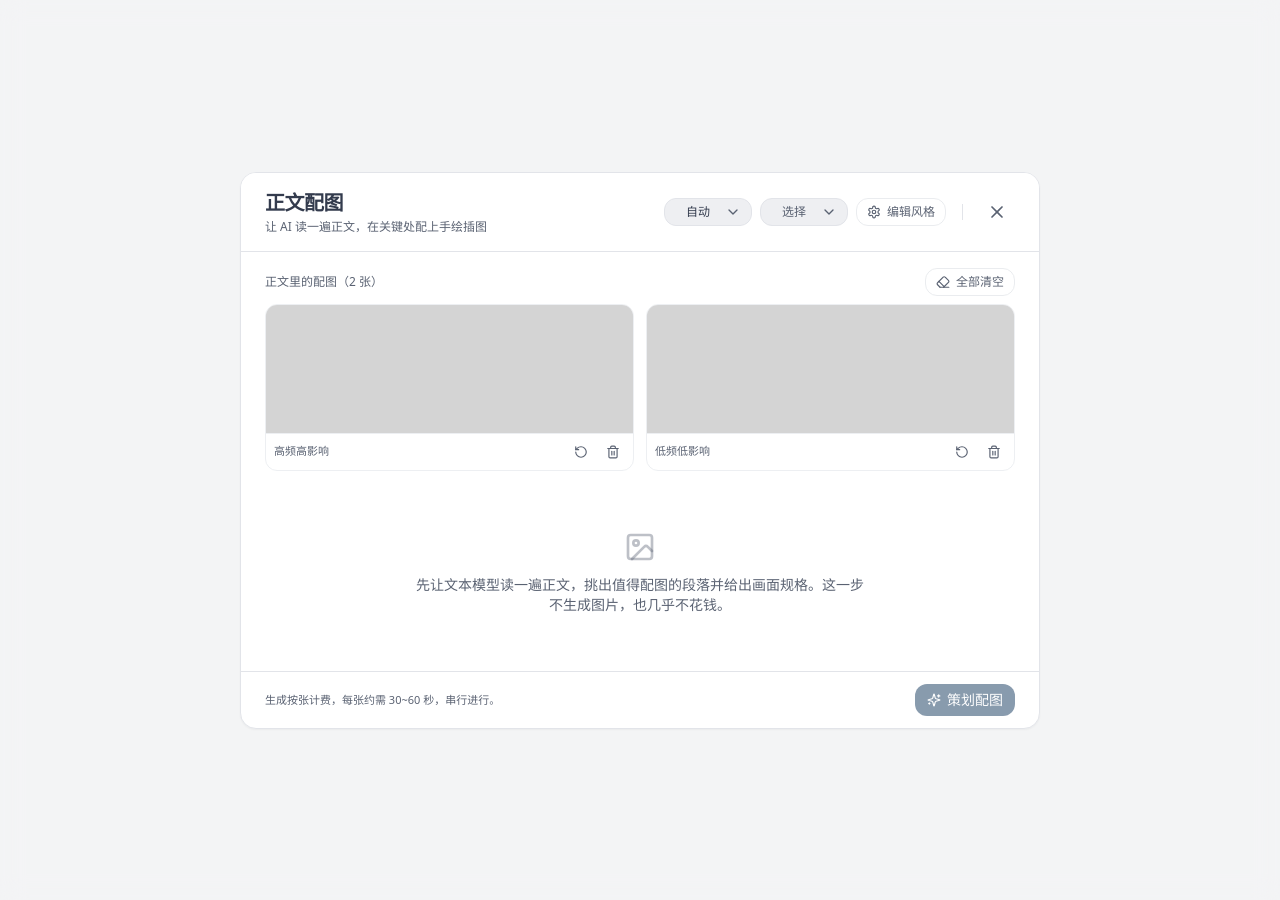
清空全部配图 › 取消就什么也不做
The image size is (1280, 900).
Click the button "全部清空" at [970, 282], box [925,268,1015,296]
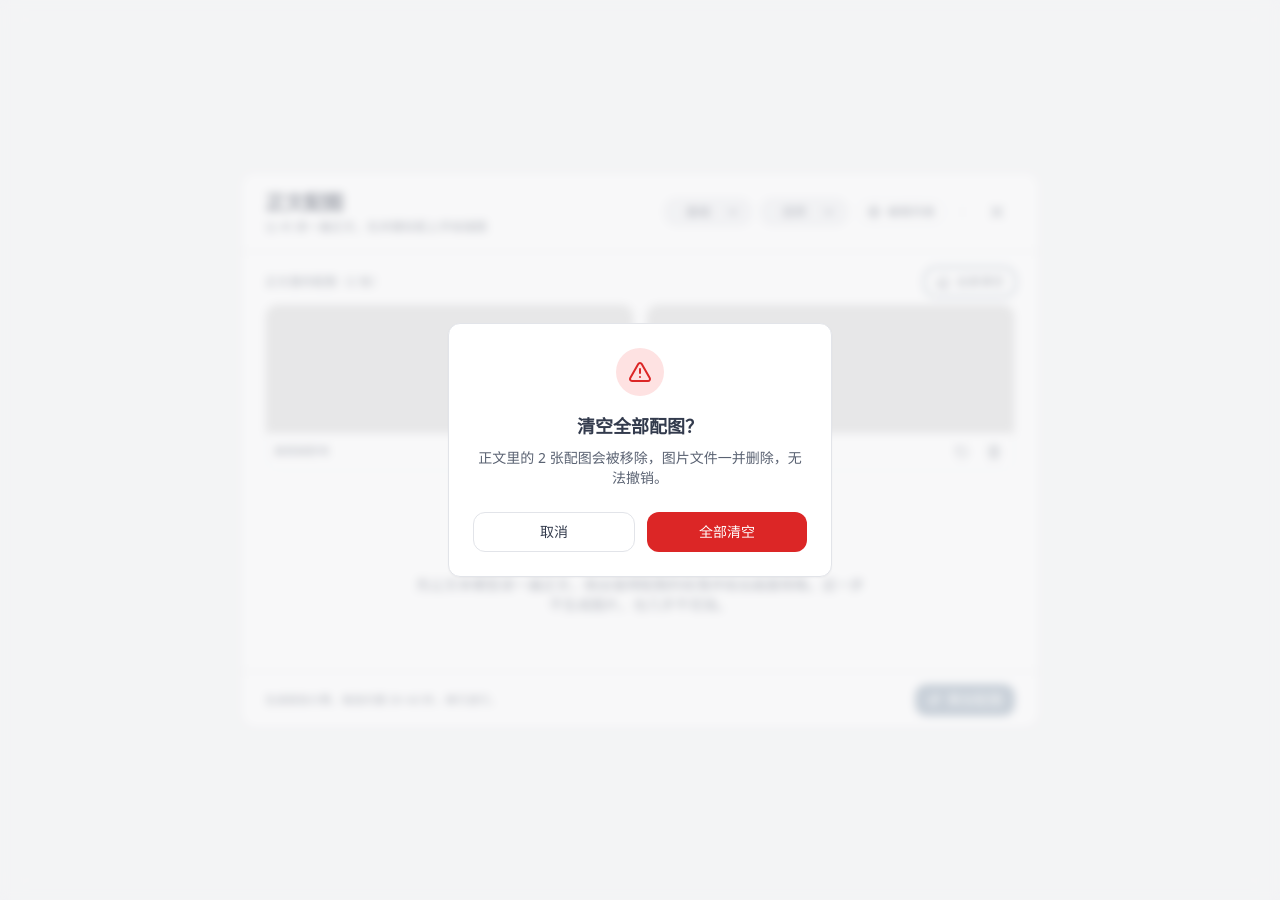
Click the button "取消" at [554, 532], box [473,512,635,552]
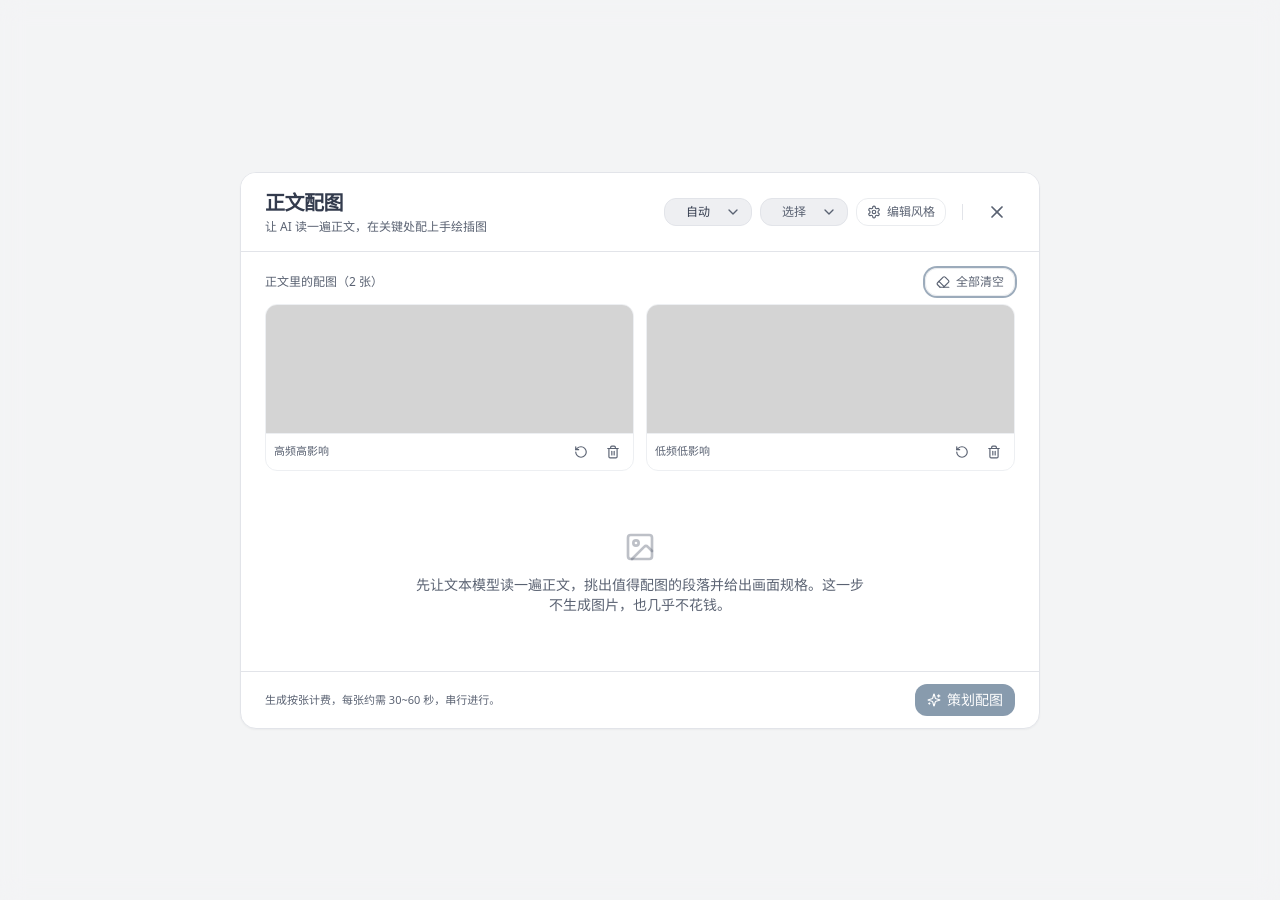
Result: the dialog "清空全部配图？ 正文里的 2 张配图会被移除，图片文件一并删除，无法撤销。 取消 全部清空" is gone
